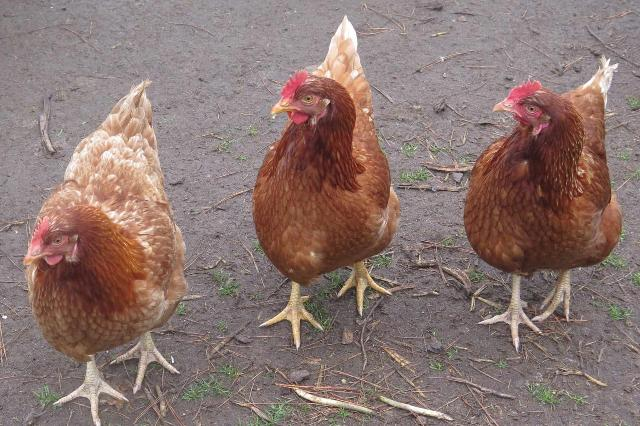Chicken: (23, 79, 187, 426), (253, 16, 401, 350), (466, 55, 623, 352)
